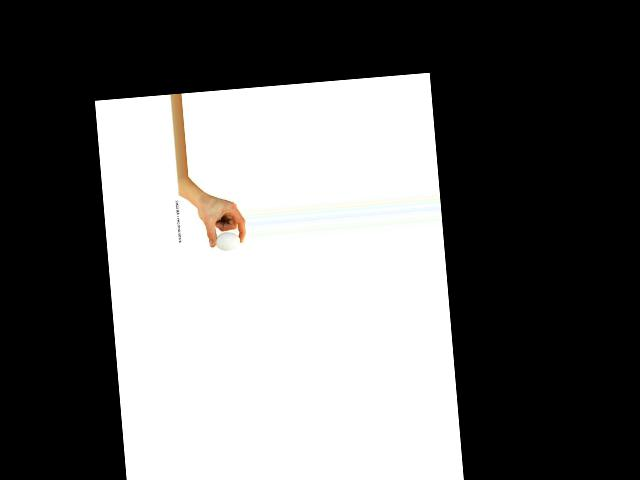egg: (214, 231, 240, 250)
